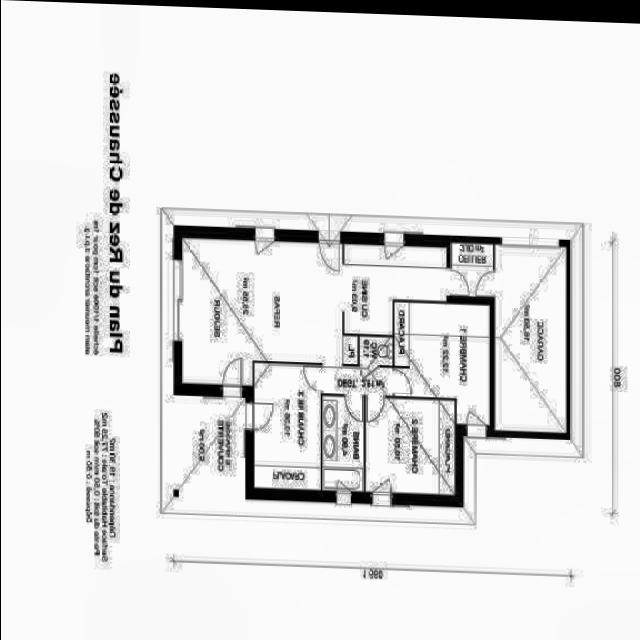room: (176, 238, 447, 398), (494, 245, 566, 433), (393, 302, 489, 425), (365, 397, 454, 495), (253, 363, 320, 490), (321, 396, 363, 492), (451, 243, 492, 298), (358, 337, 393, 365)
